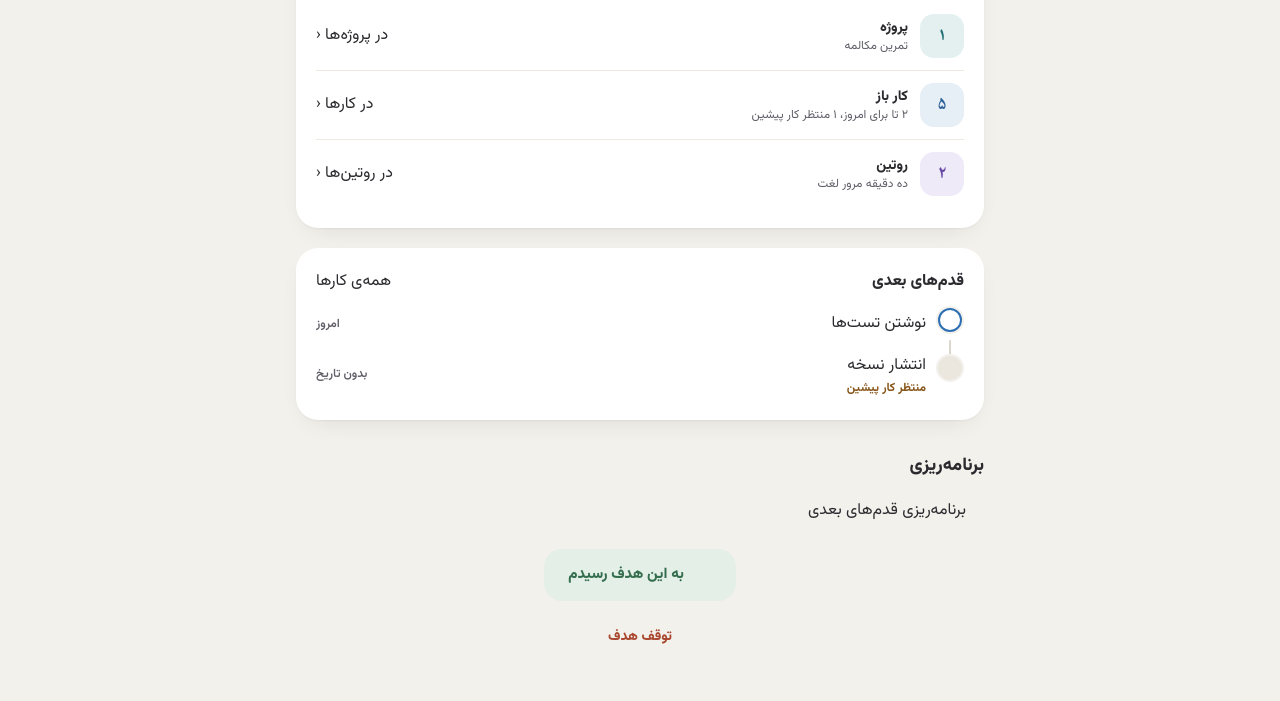
Test: GoalDetailView › names what stands in the way, with a way to open each, and offers only later
(page scrolled)
Click the button "به این هدف رسیدم" at (640, 575), box [544,549,736,601]
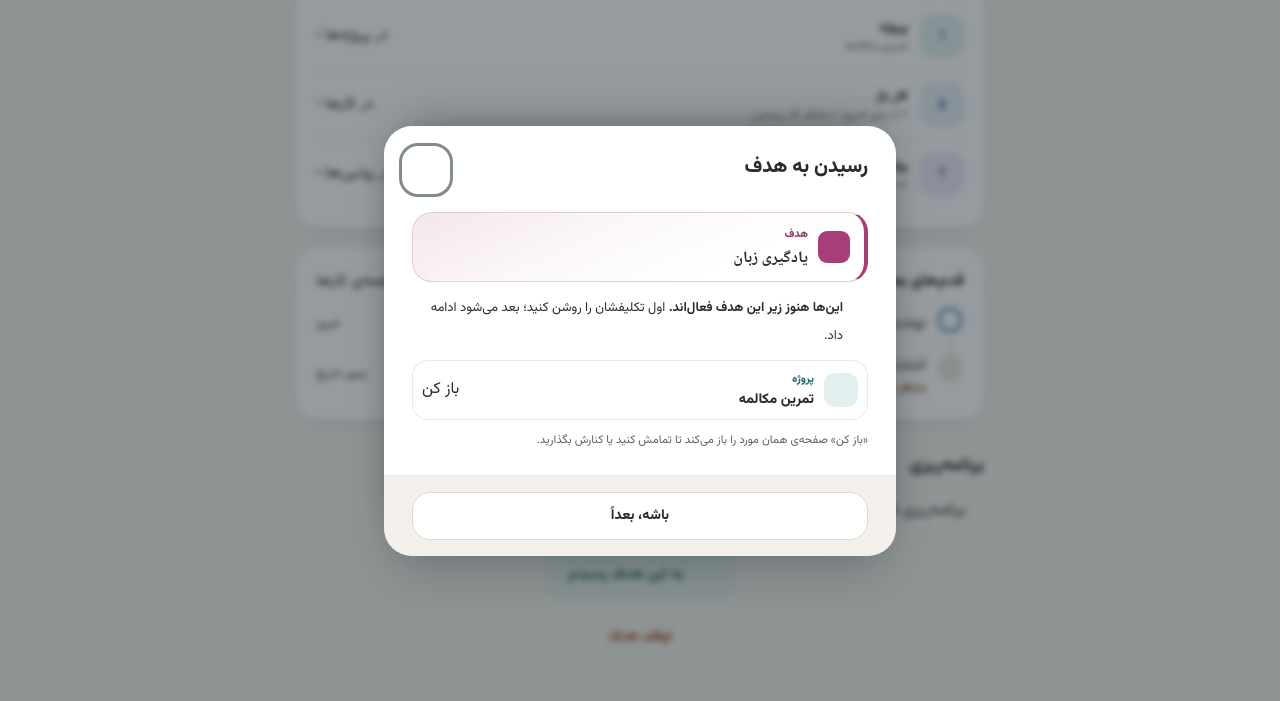
expect the text "این‌ها هنوز زیر این هدف فعال‌اند." is shown: met, box [669,298,843,318]
expect the link with aria-label "باز کن: تمرین مکالمه" is shown: met, box [422,376,459,404]
expect the button "باشه، بعداً" is shown: met, box [412,492,868,540]
